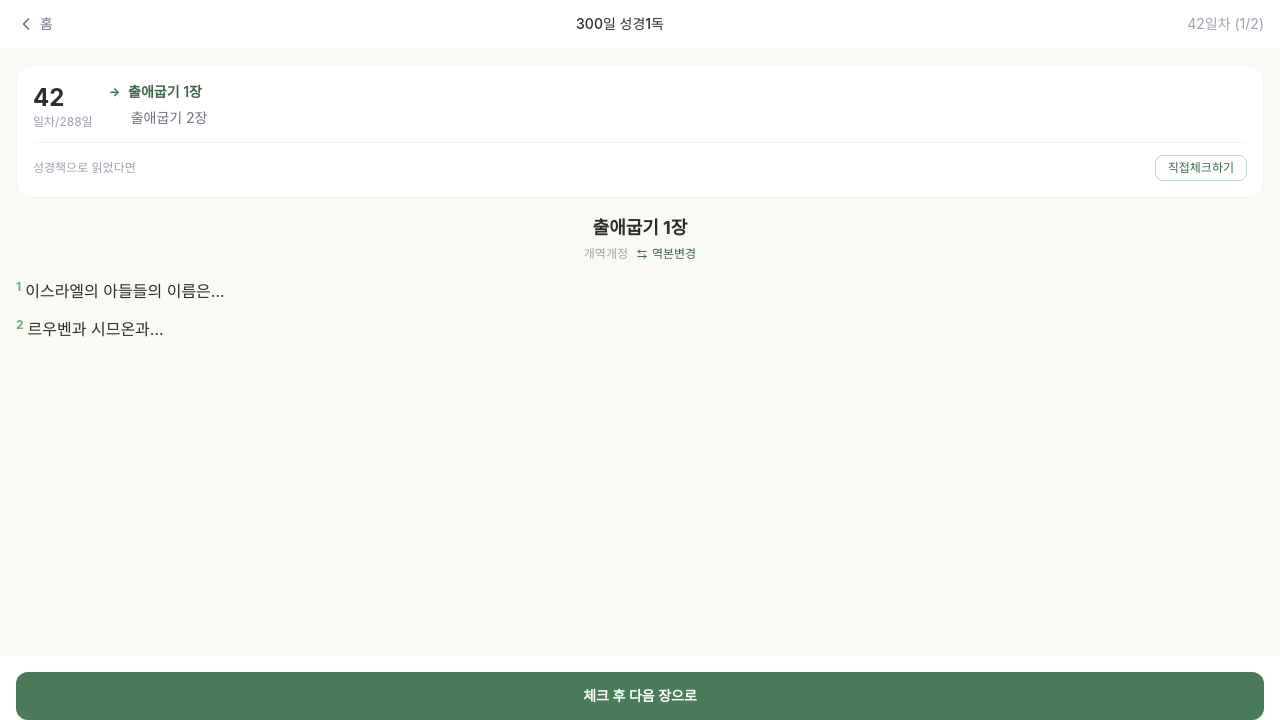
통독 완료 → 홈 복귀 흐름 › 1. DB 저장 완료 전까지 완료 화면이 나오지 않아야 한다
This screenshot has width=1280, height=720.
expect the heading "출애굽기 1장" is shown: met, box [593,217,687,238]
# Check first chapter (체크 후 다음 장으로)
Click the button "체크 후 다음 장으로": (640, 696) [16,672,1264,719]
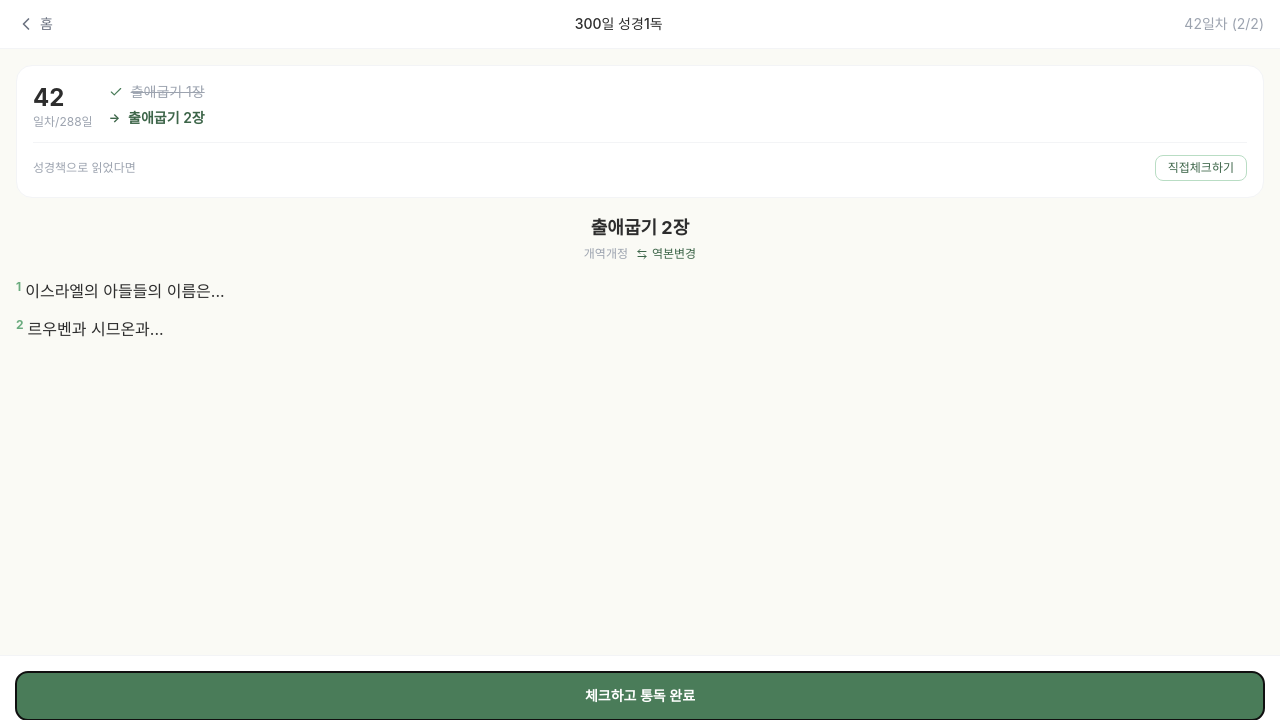
expect the heading "출애굽기 2장" is shown: met, box [591,217,689,238]
# Check second (last) chapter — triggers day completion
Click the button "체크하고 통독 완료": (640, 696) [16,672,1264,719]
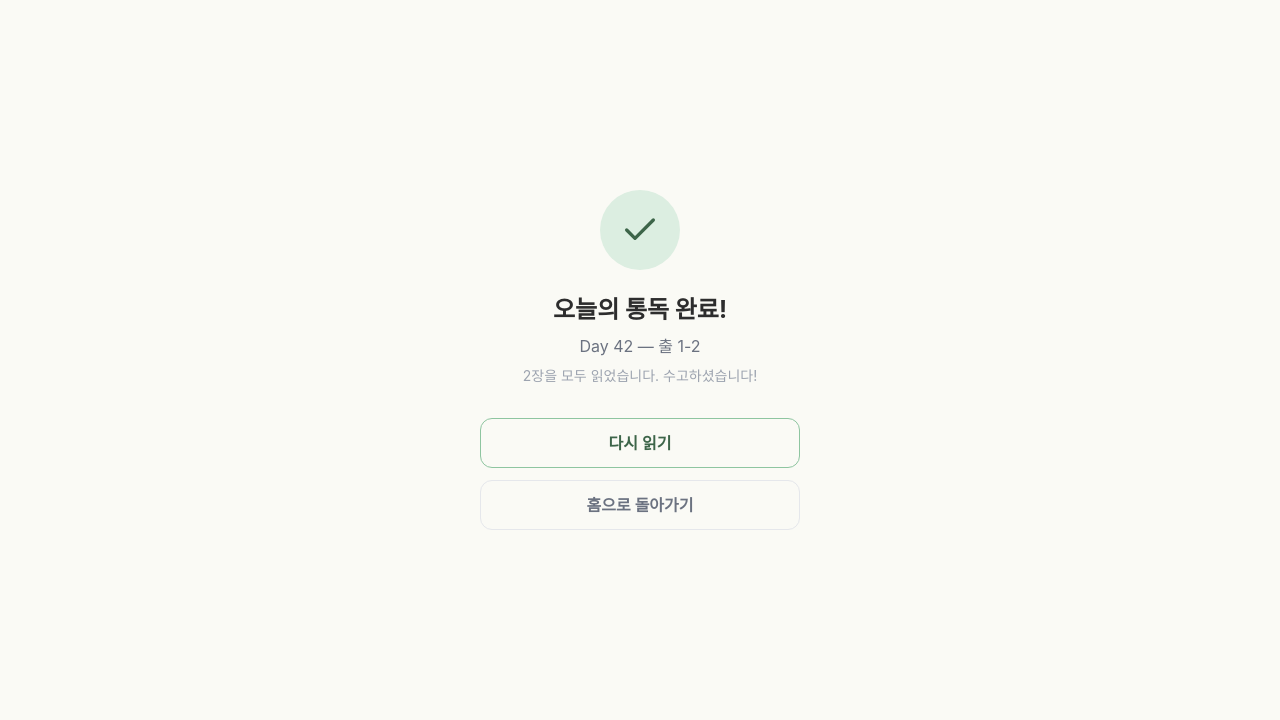
expect the heading "오늘의 통독 완료!" is shown: met, box [553,294,727,326]
